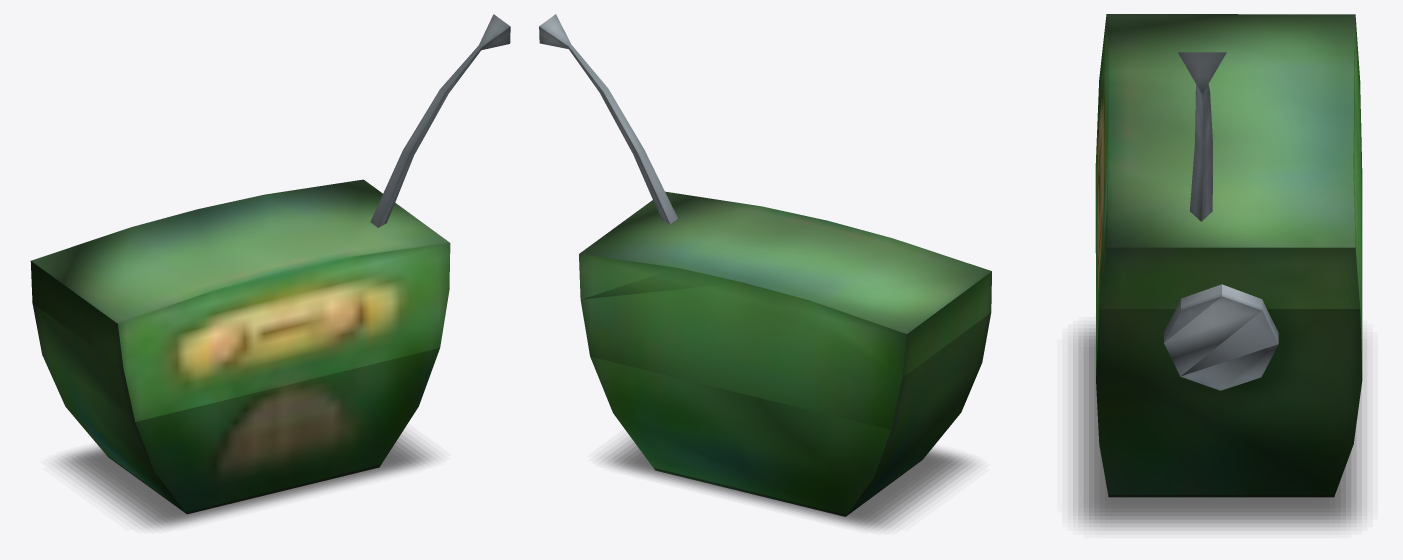
The model's file is RADIO_A.glb.
3 renders of one model, left to right at view 1: azimuth 30°, elevation 25°; view 2: azimuth 150°, elevation 25°; view 3: azimuth 270°, elevation 25°, orthographic. The views are drawn at different scales.
Parts seen in each view (by area): view 1: Radio_Main, pPlane1, Radio_Antenna; view 2: Radio_Main, pPlane1, Radio_Antenna; view 3: Radio_Main, pPlane1, Radio_Knob, Radio_Antenna.
Part boxes in pixels (bbox=[...]): Radio_Main: bbox=[30, 179, 450, 513]; pPlane1: bbox=[56, 431, 435, 528]; Radio_Antenna: bbox=[370, 14, 510, 227]; Radio_Main: bbox=[579, 191, 991, 516]; pPlane1: bbox=[601, 436, 975, 529]; Radio_Antenna: bbox=[539, 14, 677, 224]; Radio_Main: bbox=[1095, 14, 1362, 496]; pPlane1: bbox=[1073, 324, 1366, 530]; Radio_Knob: bbox=[1164, 284, 1278, 390]; Radio_Antenna: bbox=[1178, 52, 1226, 221].
Size of the model in its own units: 0.076 by 0.0649 by 0.0364.
3 materials, 3 textured.
